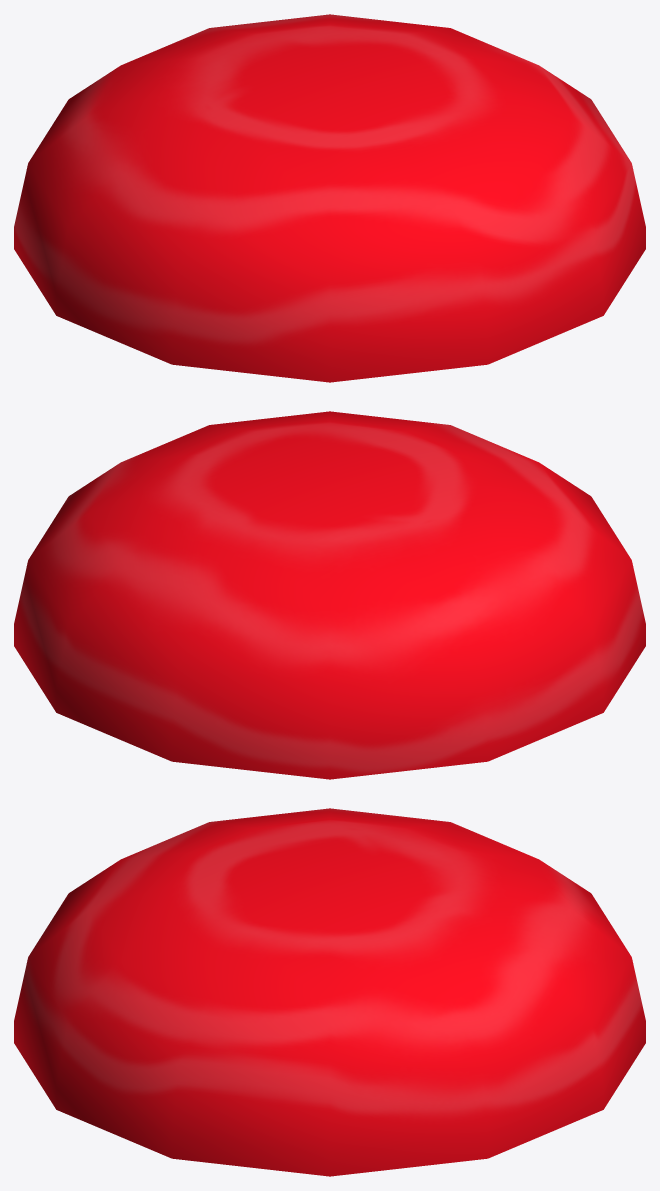
Rendered from ButtonHead.fbx.
3 renders of one model, top to bottom at view 1: azimuth 30°, elevation 25°; view 2: azimuth 150°, elevation 25°; view 3: azimuth 270°, elevation 25°, orthographic.
Visible parts, largest first — view 1: ButtonHead; view 2: ButtonHead; view 3: ButtonHead.
Part boxes in pixels (x1=…): ButtonHead: x1=14, y1=14, x2=645, y2=382; ButtonHead: x1=14, y1=411, x2=645, y2=779; ButtonHead: x1=14, y1=808, x2=645, y2=1176.
Size of the model in its own units: 15.66 by 7.03 by 15.66.
1 material, 1 textured.
